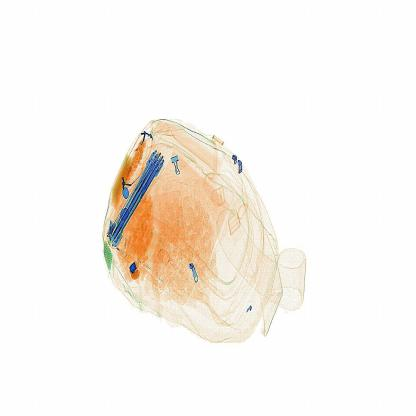wrench: (125, 257, 143, 288)
